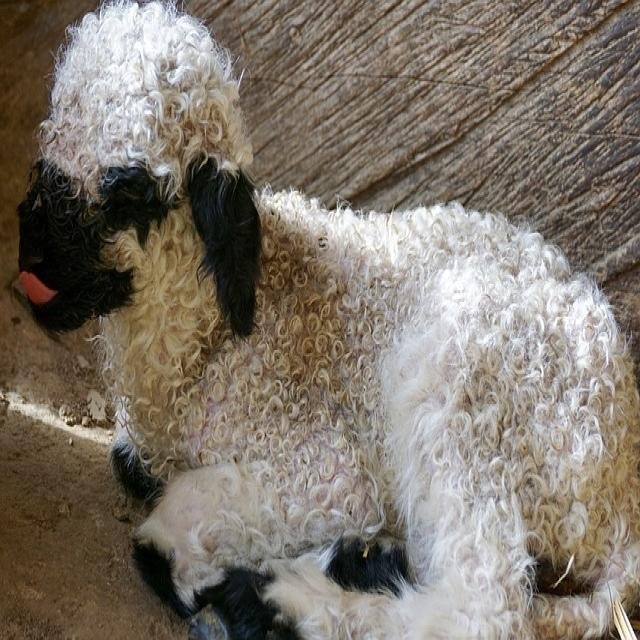goat: (18, 0, 640, 640)
